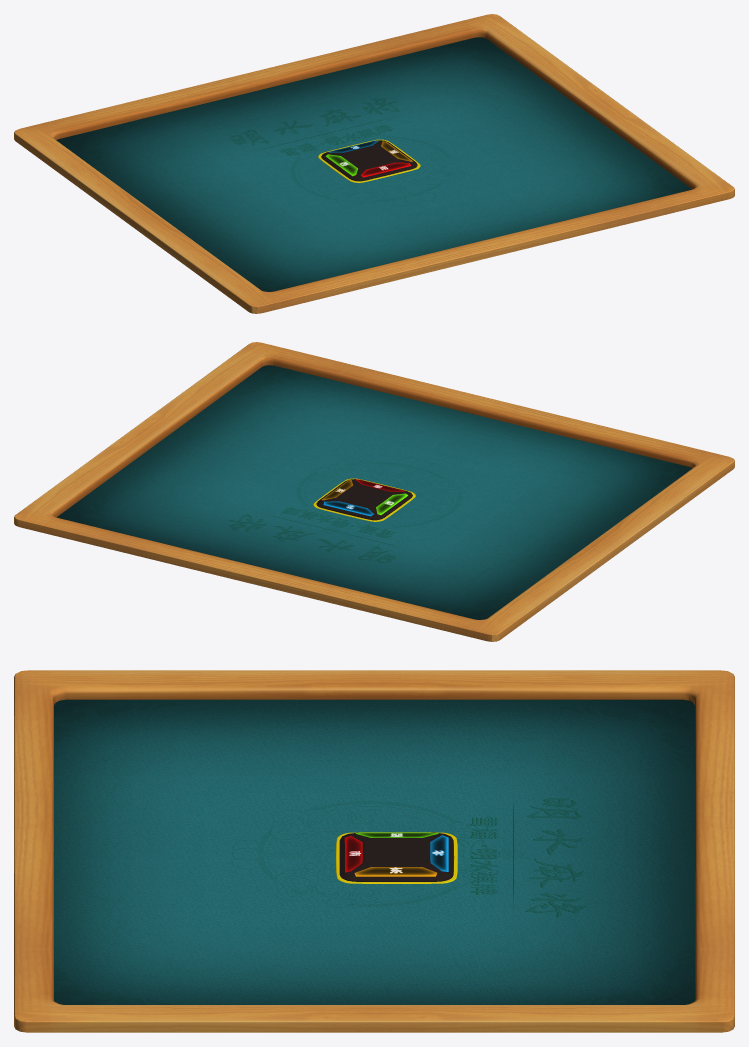
The model's file is majiangzhuo.fbx.
The picture shows the model from 3 angles, top to bottom: view 1: azimuth 30°, elevation 25°; view 2: azimuth 150°, elevation 25°; view 3: azimuth 270°, elevation 25°; orthographic projection. The views are drawn at different scales.
Parts seen in each view (by area): view 1: shaizi1:polySurface18, shaizi1:polySurface17, shaizi1:polySurface16; view 2: shaizi1:polySurface18, shaizi1:polySurface17, shaizi1:polySurface16; view 3: shaizi1:polySurface18, shaizi1:polySurface17, shaizi1:polySurface16, shaizi1:polySurface21, shaizi1:polySurface20.
Part boxes in pixels (x1=…): shaizi1:polySurface18: x1=56, y1=37, x2=691, y2=291; shaizi1:polySurface17: x1=14, y1=14, x2=734, y2=313; shaizi1:polySurface16: x1=318, y1=139, x2=420, y2=182; shaizi1:polySurface18: x1=57, y1=365, x2=692, y2=619; shaizi1:polySurface17: x1=14, y1=342, x2=734, y2=641; shaizi1:polySurface16: x1=313, y1=478, x2=415, y2=521; shaizi1:polySurface18: x1=54, y1=699, x2=694, y2=1004; shaizi1:polySurface17: x1=14, y1=670, x2=734, y2=1032; shaizi1:polySurface16: x1=335, y1=832, x2=457, y2=883; shaizi1:polySurface21: x1=354, y1=867, x2=436, y2=876; shaizi1:polySurface20: x1=430, y1=835, x2=448, y2=871.
Size of the model in its own units: 82 by 1.62 by 71.03.
